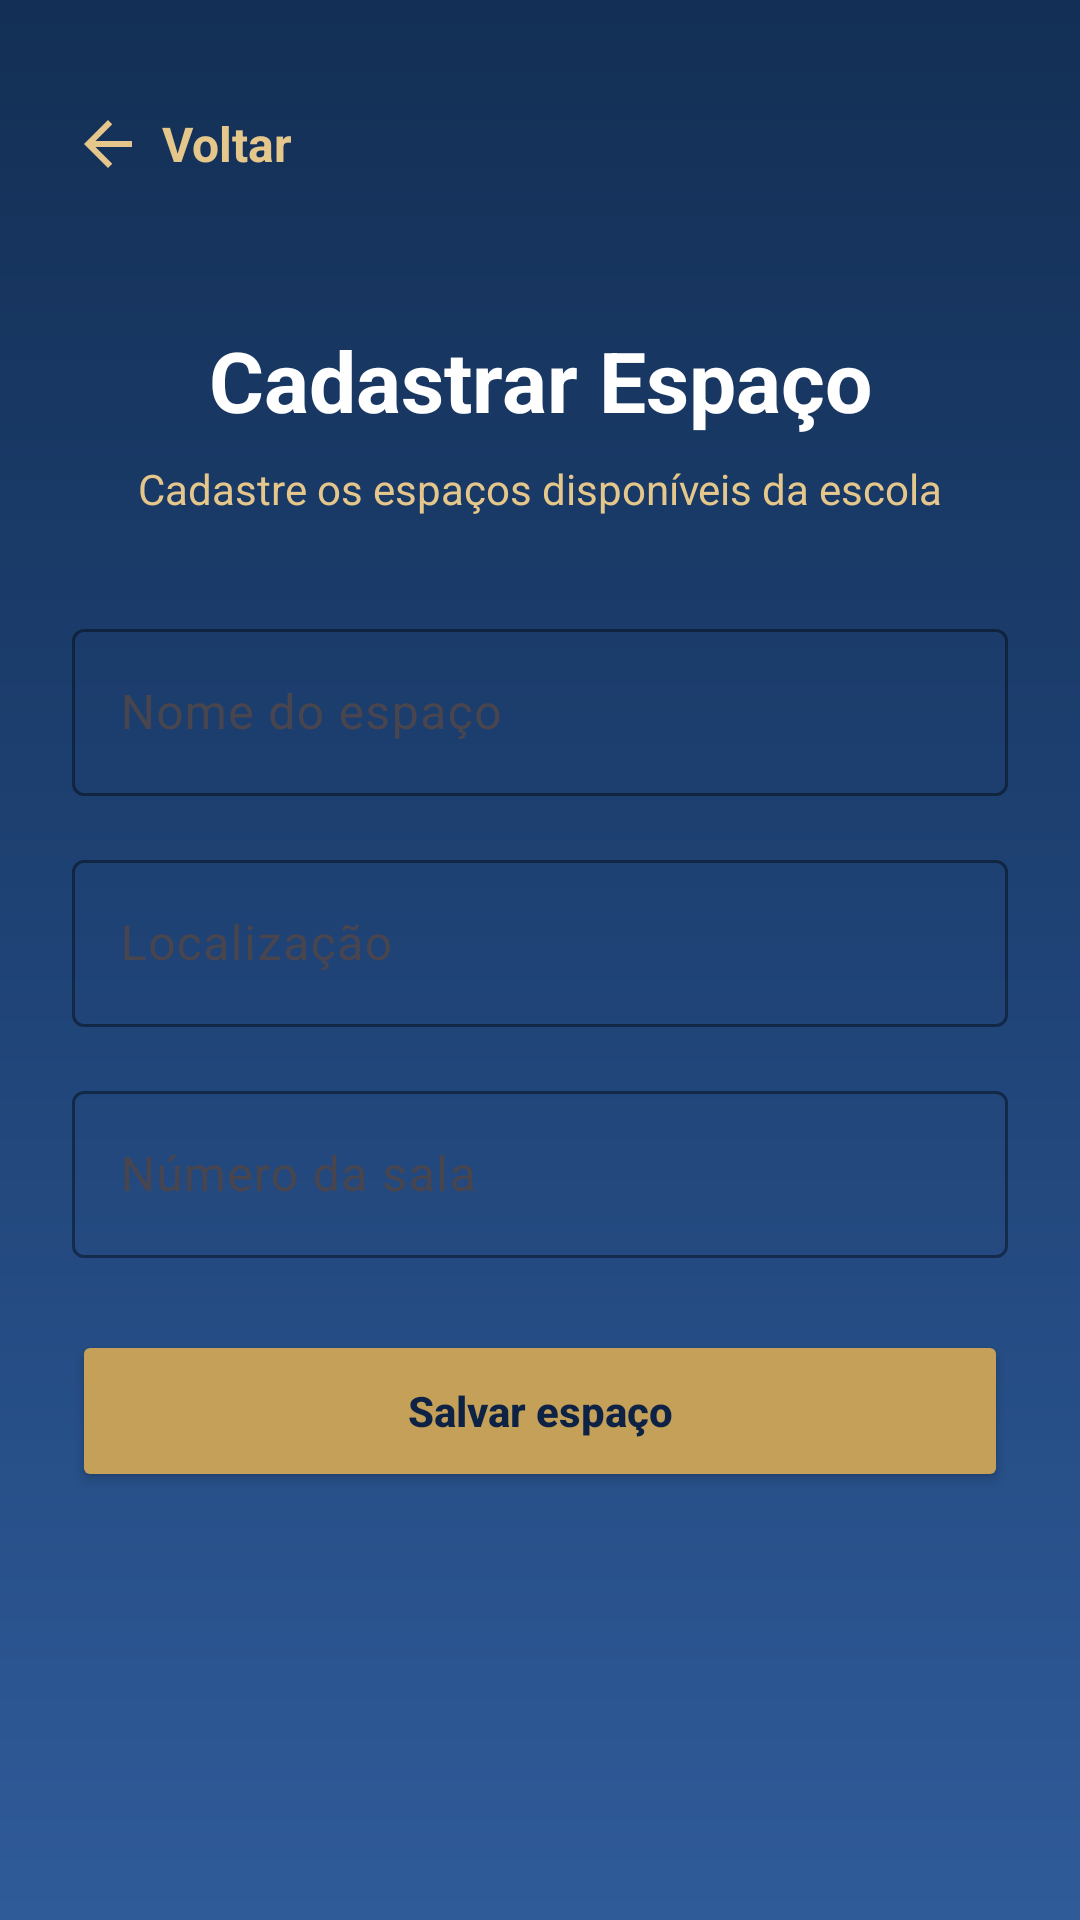

Locate icon controls on the screen. Image size 1080 × 1920, boxes as (x1, y1, x2, y2).
arrow back yarooms: (84, 120, 132, 168)
